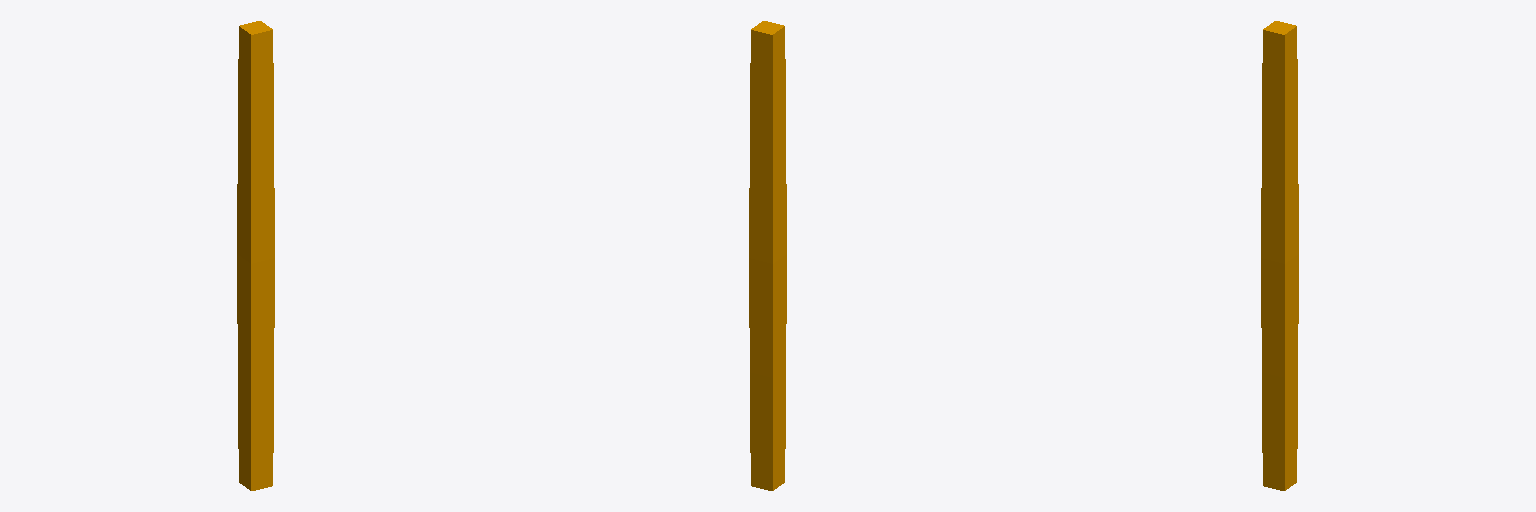
The robot description file, URDF, robot "sticky":
<?xml version="1.0"?>
<robot name="sticky">

  <link name="sticky_link">
    <visual>
      <geometry>
        <mesh filename="sticky.obj" scale="0.05 0.05 0.2"/>
      </geometry>
    </visual>
    <collision>
      <geometry>
        <mesh filename="sticky.obj" scale="0.05 0.05 0.2"/>
      </geometry>
    </collision>
    <inertial>
      <mass value="0.1"/>
      <origin rpy="0 0 0" xyz="0 0 0"/>
      <inertia ixx="0.005" ixy="0" ixz="0" iyy="0.005" iyz="0" izz="0.005"/>
    </inertial>
  </link>

</robot>

--- Render facts (derived) ---
3 views of the same robot in one strip: view 1: azimuth 30°, elevation 25°; view 2: azimuth 150°, elevation 25°; view 3: azimuth 330°, elevation 25° (orthographic).
Robot: sticky — 1 links, 0 joints (none); root link sticky_link; default pose: every joint at zero.
Links seen in each view (by area): view 1: sticky_link; view 2: sticky_link; view 3: sticky_link.
Link boxes in pixels (bbox=[...]): sticky_link: bbox=[237, 21, 274, 490]; sticky_link: bbox=[749, 21, 786, 490]; sticky_link: bbox=[1261, 21, 1298, 490].
Size in the robot's own frame: 0.011 by 0.011 by 0.2 metres.
Meshes: 1 distinct files referenced, 1 mesh visuals loaded (1 OBJ).